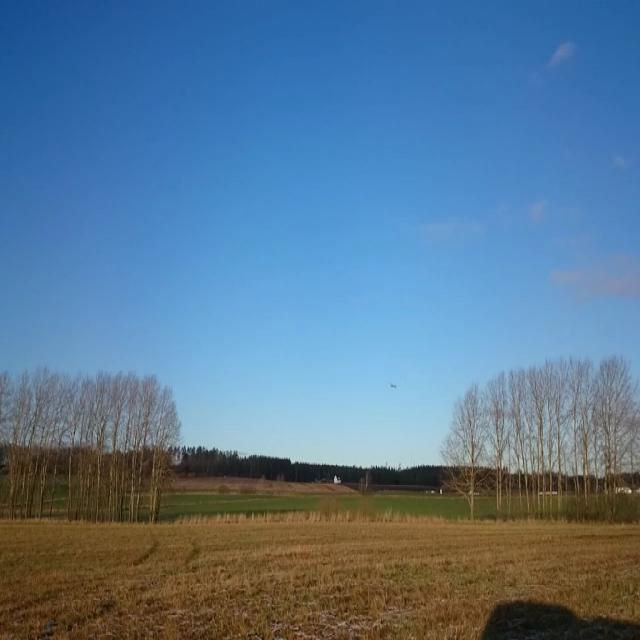Drone: (382, 372, 407, 398)
